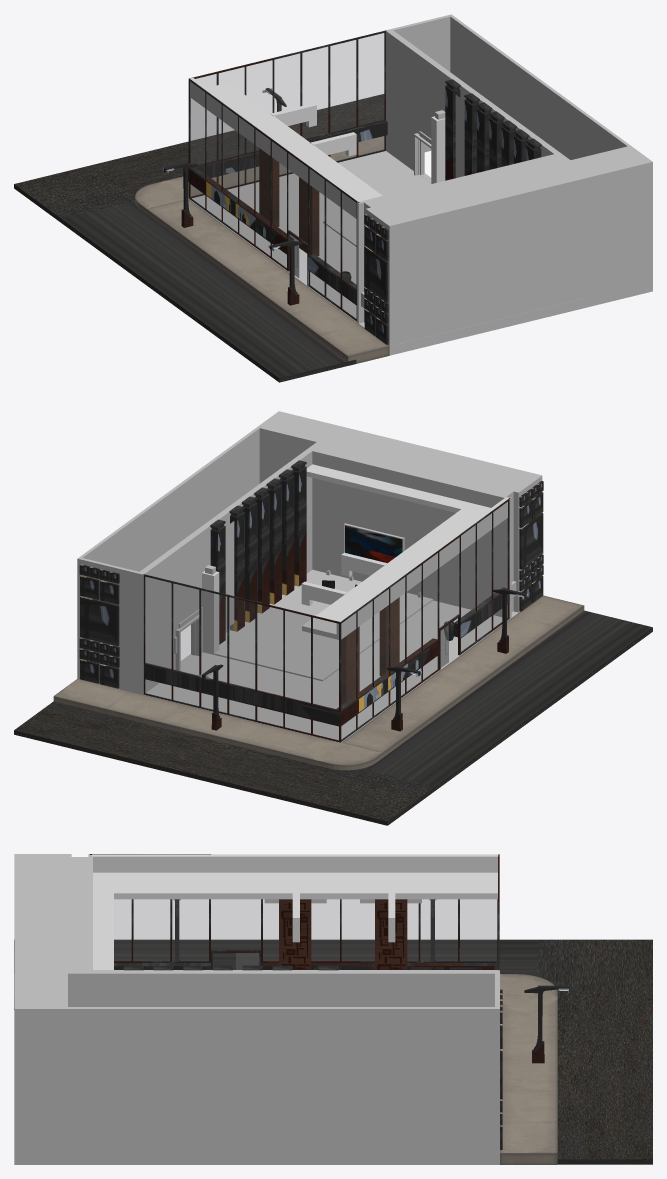
Rendered from FullBuilding_low.fbx.
3 renders of one model, top to bottom at view 1: azimuth 30°, elevation 25°; view 2: azimuth 150°, elevation 25°; view 3: azimuth 270°, elevation 25°, orthographic. The views are drawn at different scales.
Parts seen in each view (by area): view 1: Wall Right, Wall Left, Asphalt, Glass.001, Sidewalk Low, Floor, Top Bar, WindowBlock Low, Deco Pillar 2, Tile Low, Window Bars Horizontal, Window Bars Vertical 1 (+12 smaller); view 2: Glass.001, Asphalt, Wall Left, Wall Right, Sidewalk Low, Floor, Top Bar, Deco Pillar 2, Upstep Carpet, WindowBlock Low, Tile Low2, Window Bars Horizontal (+12 smaller); view 3: Wall Left, Asphalt, Top Bar, Glass.001, Sidewalk Low, Wall Right, MainPillar Low.001, MainPillar Low, WindowBlock Low, Window Bars Horizontal, Cube.099, Deco Pillar 2 (+3 smaller).
Boxes of the visible parts, <box> form: Wall Right: <box>357,154,586,345</box>; Wall Left: <box>386,14,652,307</box>; Asphalt: <box>14,94,384,382</box>; Glass.001: <box>190,33,384,318</box>; Sidewalk Low: <box>135,136,389,365</box>; Floor: <box>188,151,587,355</box>; Top Bar: <box>190,77,382,218</box>; WindowBlock Low: <box>188,120,387,304</box>; Deco Pillar 2: <box>464,93,541,175</box>; Tile Low: <box>364,214,388,344</box>; Window Bars Horizontal: <box>188,30,386,321</box>; Window Bars Vertical 1: <box>188,30,385,197</box>; Glass.001: <box>145,502,507,740</box>; Asphalt: <box>14,610,652,825</box>; Wall Left: <box>77,411,344,694</box>; Wall Right: <box>312,427,542,618</box>; Sidewalk Low: <box>53,595,584,770</box>; Floor: <box>144,600,519,742</box>; Top Bar: <box>302,464,508,639</box>; Deco Pillar 2: <box>229,460,306,631</box>; Upstep Carpet: <box>214,569,433,681</box>; WindowBlock Low: <box>143,587,509,725</box>; Tile Low2: <box>79,564,119,688</box>; Window Bars Horizontal: <box>143,498,510,742</box>; Wall Left: <box>14,970,499,1164</box>; Asphalt: <box>14,939,652,1164</box>; Top Bar: <box>92,854,498,969</box>; Glass.001: <box>114,899,496,960</box>; Sidewalk Low: <box>14,974,557,1164</box>; Wall Right: <box>14,854,92,969</box>; MainPillar Low.001: <box>375,899,407,969</box>; MainPillar Low: <box>279,899,311,969</box>; WindowBlock Low: <box>114,963,497,969</box>; Window Bars Horizontal: <box>90,854,499,970</box>; Cube.099: <box>524,985,569,1063</box>; Deco Pillar 2: <box>123,965,292,970</box>.
Bounding box in the file's own units: 8156 × 2706 × 10025.
